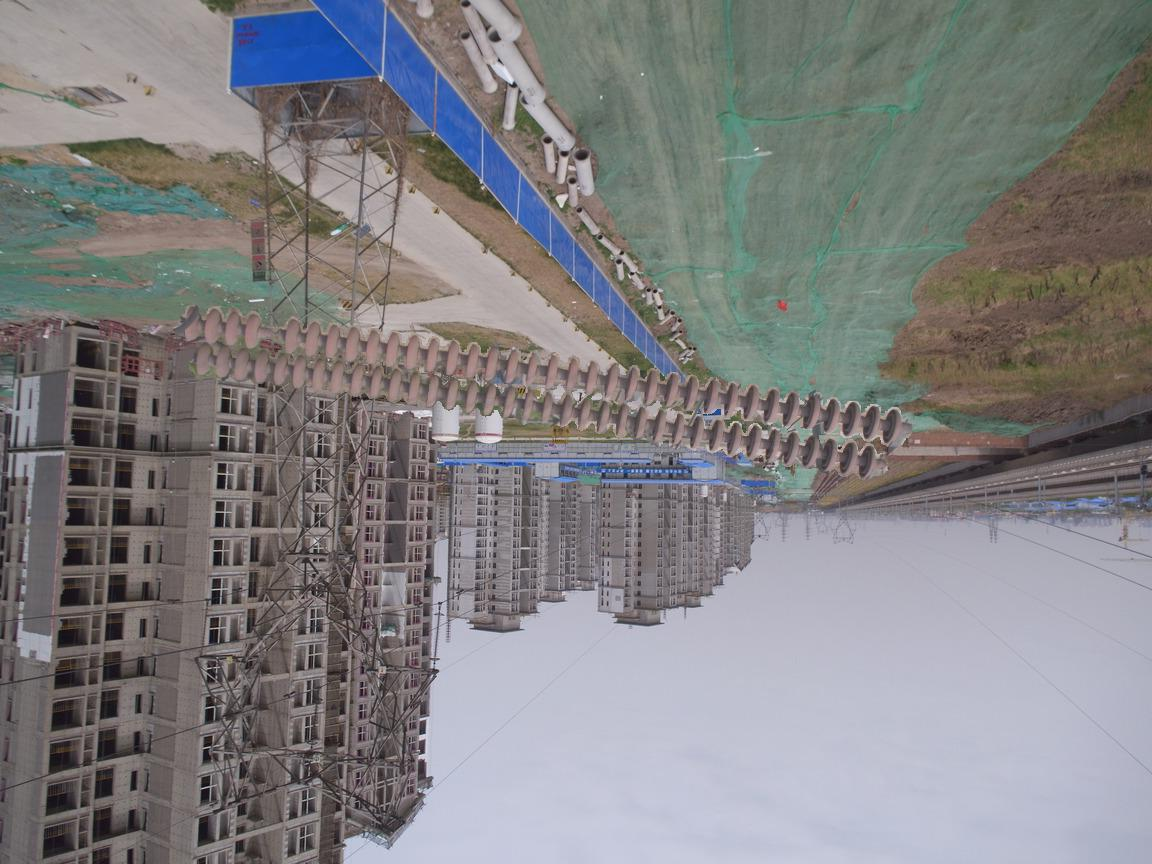insulator: (174, 297, 918, 486)
insulator_stringdrop: (241, 309, 303, 356)
